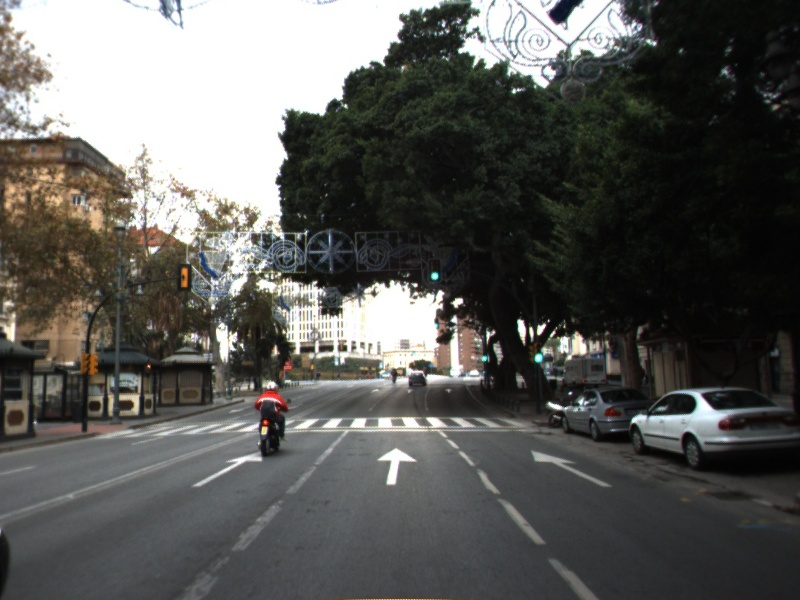STRAIGHT: (528, 448, 616, 490), (189, 449, 265, 490), (374, 445, 421, 488)
